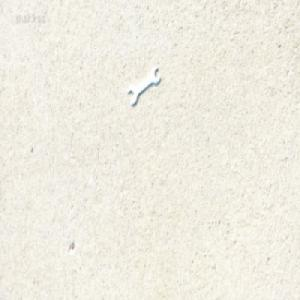Wrench: (128, 67, 161, 106)
